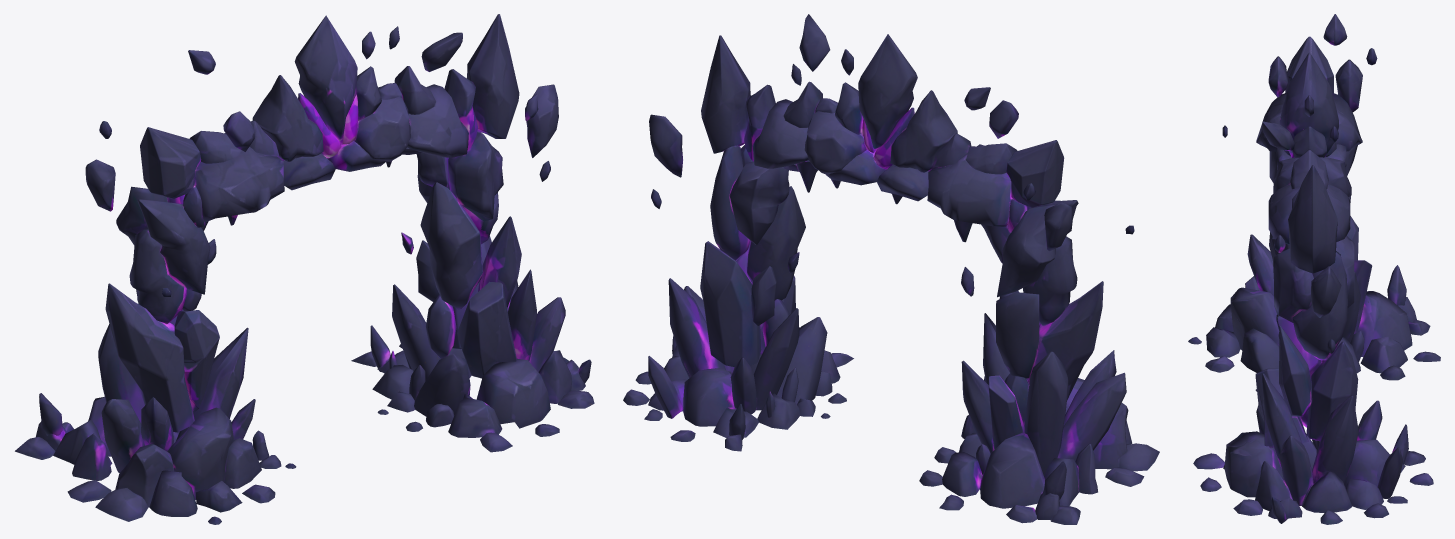
Rendered from fantasy+portal+arch+3d+model.fbx.
3 renders of one model, left to right at view 1: azimuth 30°, elevation 25°; view 2: azimuth 150°, elevation 25°; view 3: azimuth 270°, elevation 25°, orthographic. The views are drawn at different scales.
Parts seen in each view (by area): view 1: tripo_75637171_2af2_4e41_9e56_f98365bcef8a; view 2: tripo_75637171_2af2_4e41_9e56_f98365bcef8a; view 3: tripo_75637171_2af2_4e41_9e56_f98365bcef8a.
Part boxes in pixels (<box>): tripo_75637171_2af2_4e41_9e56_f98365bcef8a: <box>15,14,594,524</box>; tripo_75637171_2af2_4e41_9e56_f98365bcef8a: <box>623,14,1159,524</box>; tripo_75637171_2af2_4e41_9e56_f98365bcef8a: <box>1188,14,1440,524</box>.
Size of the model in its own units: 0.9995 by 0.7866 by 0.4849.
Materials: 1 (1 with a texture image).
